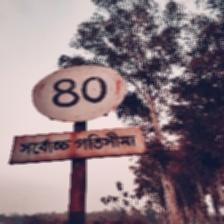Speed-limit: (9, 64, 145, 164)
